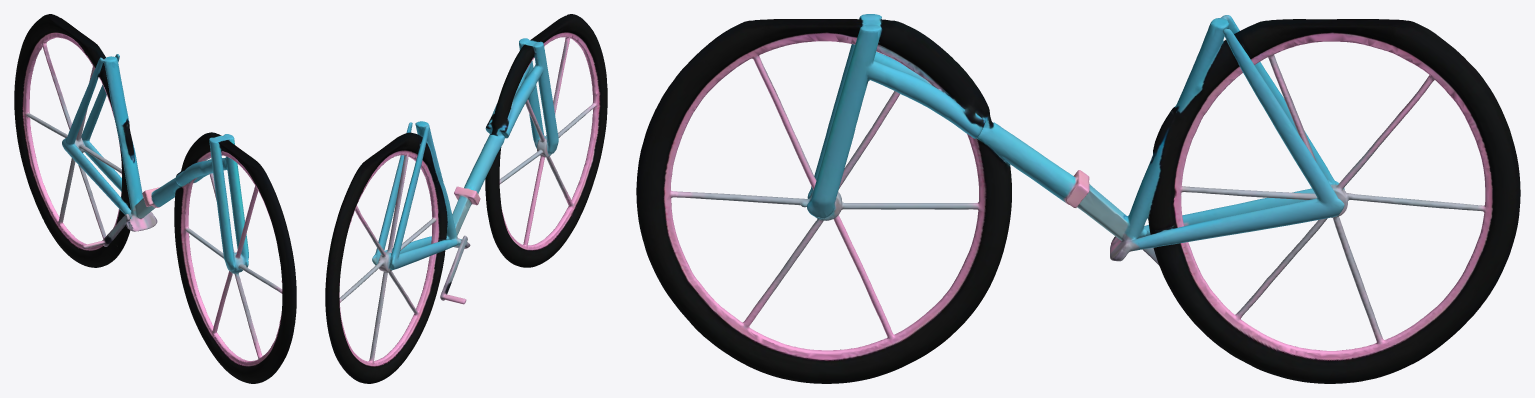
The model's file is bike-fuser-rig.glb.
3 renders of one model, left to right at view 1: azimuth 30°, elevation 25°; view 2: azimuth 150°, elevation 25°; view 3: azimuth 270°, elevation 25°, orthographic. The views are drawn at different scales.
Visible parts, largest first — view 1: tripo_node_ba870797-d4b2-46b8-980b-208156edad82; view 2: tripo_node_ba870797-d4b2-46b8-980b-208156edad82; view 3: tripo_node_ba870797-d4b2-46b8-980b-208156edad82.
Boxes of the visible parts, left/top/right/bottom form: tripo_node_ba870797-d4b2-46b8-980b-208156edad82: left=14, top=14, right=296, bottom=383; tripo_node_ba870797-d4b2-46b8-980b-208156edad82: left=325, top=14, right=607, bottom=383; tripo_node_ba870797-d4b2-46b8-980b-208156edad82: left=636, top=14, right=1520, bottom=383.
Bounding box in the file's own units: 0.2728 × 1.2 × 2.66.
1 material, 1 textured.
